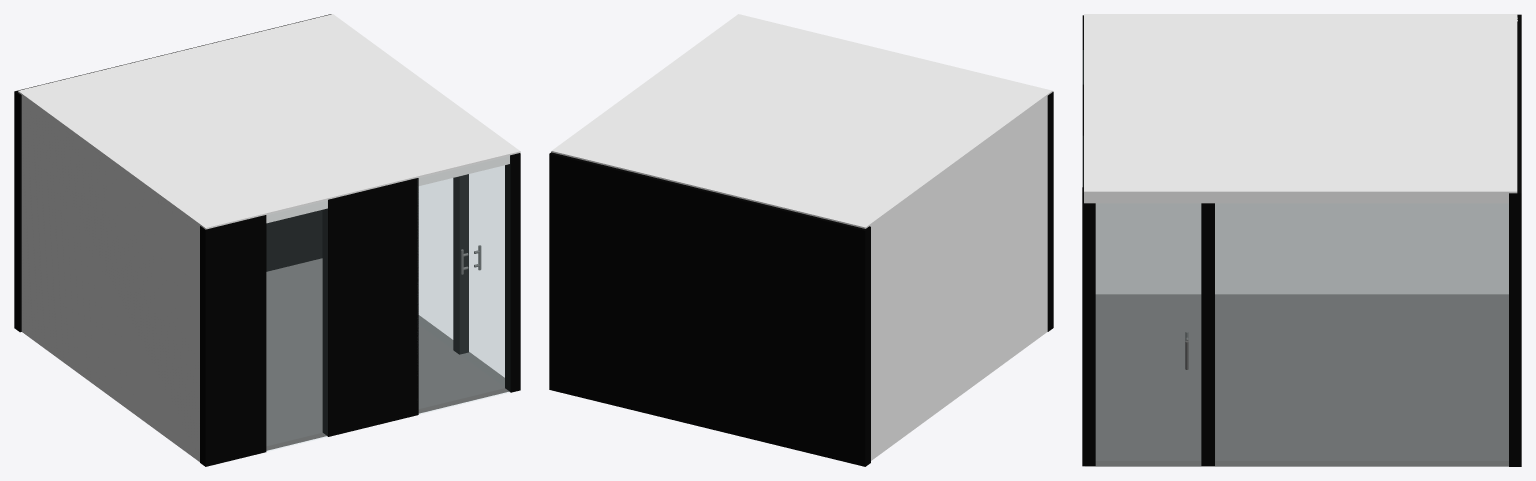
Rendered from glass room.fbx.
3 renders of one model, left to right at view 1: azimuth 30°, elevation 25°; view 2: azimuth 150°, elevation 25°; view 3: azimuth 270°, elevation 25°, orthographic. The views are drawn at different scales.
Parts seen in each view (by area): view 1: Object_19, Object_16, Object_3, Object_15, Object_4, Object_6, Object_5; view 2: Object_19, Object_16; view 3: Object_19, Object_5, Object_15, Object_6, Object_16.
Part boxes in pixels (left/top/right/bottom): Object_19: left=18, top=14, right=520, bottom=461; Object_16: left=14, top=14, right=520, bottom=466; Object_3: left=419, top=165, right=509, bottom=413; Object_15: left=266, top=258, right=509, bottom=450; Object_4: left=267, top=201, right=327, bottom=451; Object_6: left=469, top=166, right=504, bottom=376; Object_5: left=419, top=178, right=452, bottom=338; Object_19: left=551, top=14, right=1052, bottom=460; Object_16: left=549, top=91, right=1053, bottom=466; Object_19: left=1084, top=14, right=1517, bottom=294; Object_5: left=1216, top=204, right=1508, bottom=460; Object_15: left=1085, top=294, right=1508, bottom=466; Object_6: left=1096, top=204, right=1200, bottom=460; Object_16: left=1082, top=14, right=1521, bottom=466.
Bounding box in the file's own units: 3.51 × 2.49 × 3.6.
